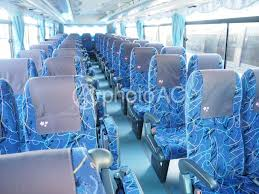seat: (147, 56, 190, 164)
